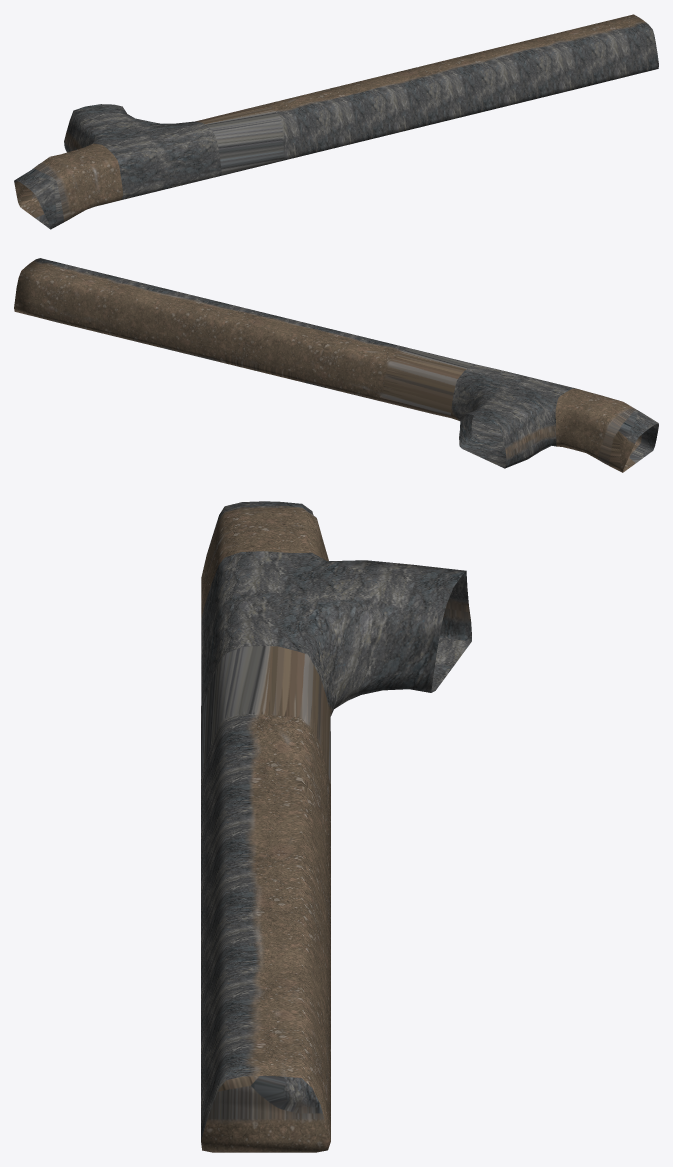
File: piece.obj
3 renders of one model, top to bottom at view 1: azimuth 30°, elevation 25°; view 2: azimuth 150°, elevation 25°; view 3: azimuth 270°, elevation 25°, orthographic. The views are drawn at different scales.
Parts seen in each view (by area): view 1: SlopeA; view 2: SlopeA; view 3: SlopeA.
Boxes of the visible parts, x1=… form: SlopeA: x1=14, y1=14, x2=658, y2=229; SlopeA: x1=14, y1=258, x2=658, y2=472; SlopeA: x1=201, y1=501, x2=471, y2=1152.
Bounding box in the file's own units: 34.57 × 2.85 × 6.56.
1 material, 1 textured.
